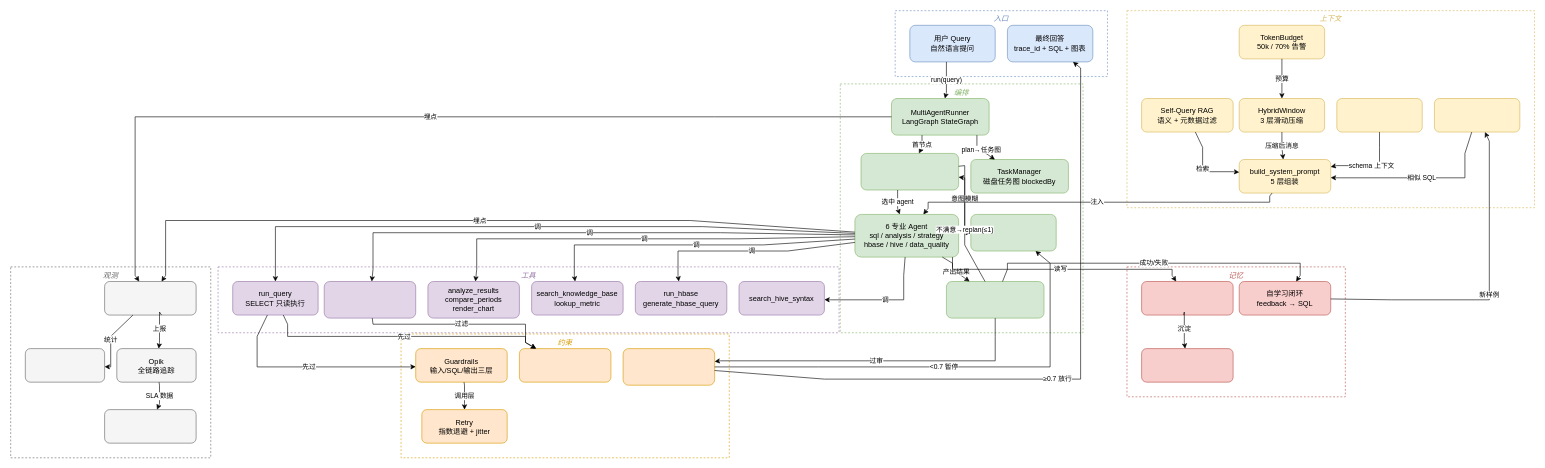
The diagram is 1545 pixels wide and 468 high, and some of its shapes have lost their labels. The centre of each missing label's shape, as x and y in pixels:
"Clarify 澄清 HITL interrupt()" belongs at (x=1013, y=232).
"Confidence Gate 置信度阈值 0.7" belongs at (x=669, y=366).
"Cost 计费 按模型定价" belongs at (x=65, y=365).
"Entitlement 4级 + 行级重写" belongs at (x=565, y=365).
"list_tables describe_table discover_schema" belongs at (x=370, y=299).
"Pipeline Monitor SLA/失败/异常" belongs at (x=150, y=426).
"Reflection 反思 完整性·真实性·可用性" belongs at (x=995, y=299).
"Router 路由 规则→缓存→LLM→继承" belongs at (x=909, y=171).
"SchemaDiscovery embedding 选表" belongs at (x=1379, y=115).
"SQLExampleStore Vanna 少样本" belongs at (x=1477, y=115).
"TraceContext JSONL + SQL 掩码" belongs at (x=150, y=298).
"短期记忆 ConversationManager" belongs at (x=1187, y=298).
"长期记忆 ChromaDB + HyDE" belongs at (x=1187, y=365).
